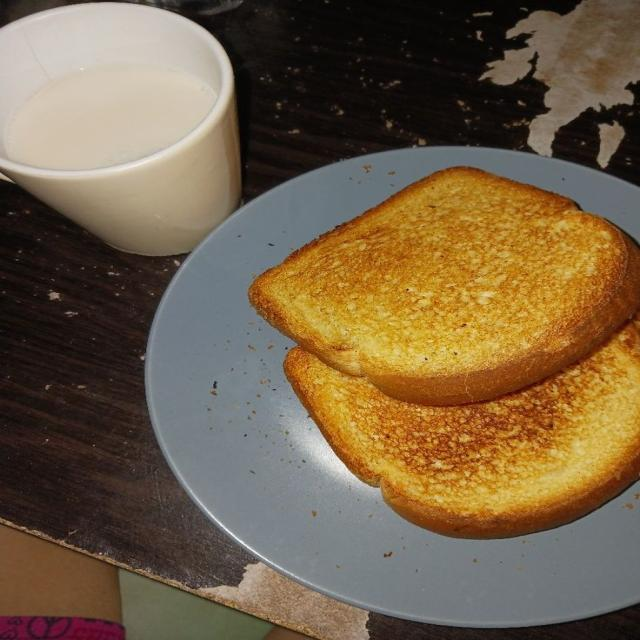toast bread: (249, 168, 639, 405), (285, 319, 639, 538)
